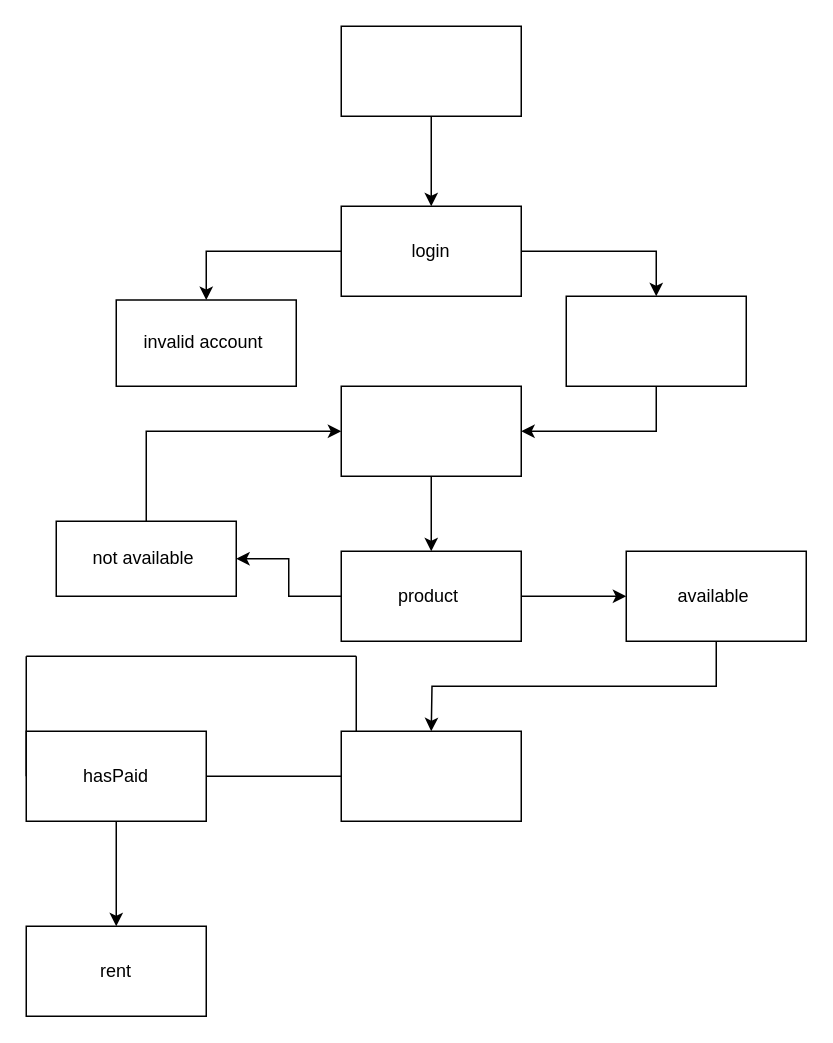
Some shapes in this 833 by 1043 pixel diagram are drawn without their labels. The centre of each missing label's shape, as x and y in pixels:
"booking" belongs at pixel 430 775.
"catalogue" belongs at pixel 430 430.
"open system" belongs at pixel 430 70.
"validate account" belongs at pixel 655 340.
